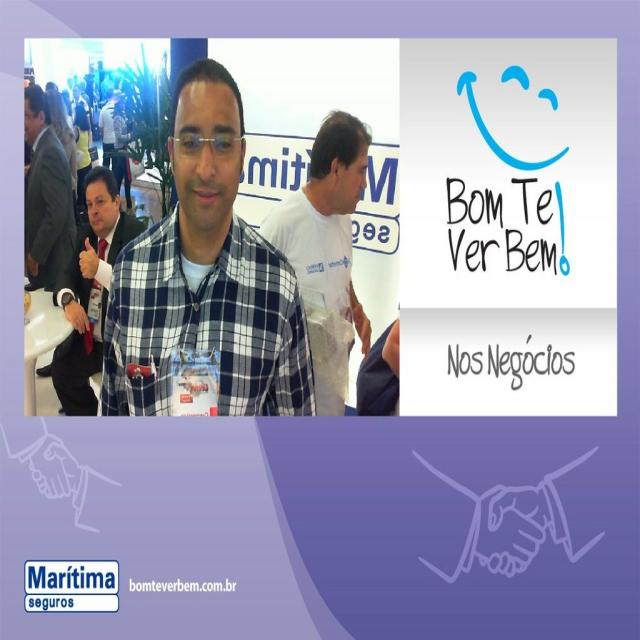Glasses: (170, 125, 242, 163), (26, 112, 34, 116)
